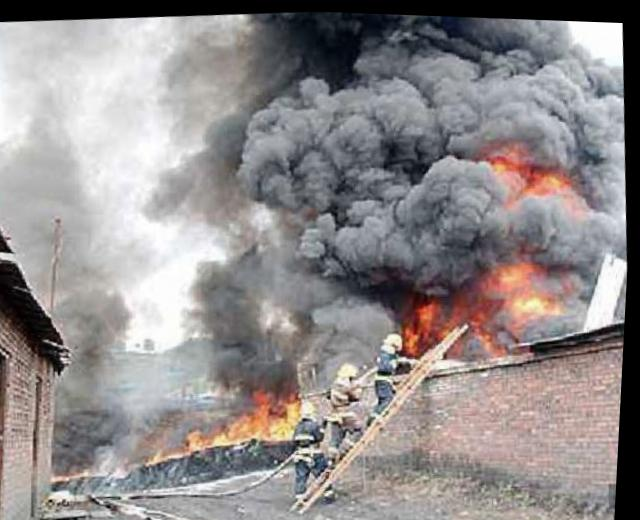fire: (401, 289, 439, 353), (214, 407, 278, 441), (511, 286, 567, 318), (488, 252, 535, 284), (528, 159, 567, 186), (186, 420, 214, 450), (489, 149, 523, 170), (282, 388, 303, 416), (276, 413, 297, 438), (253, 386, 270, 409)
